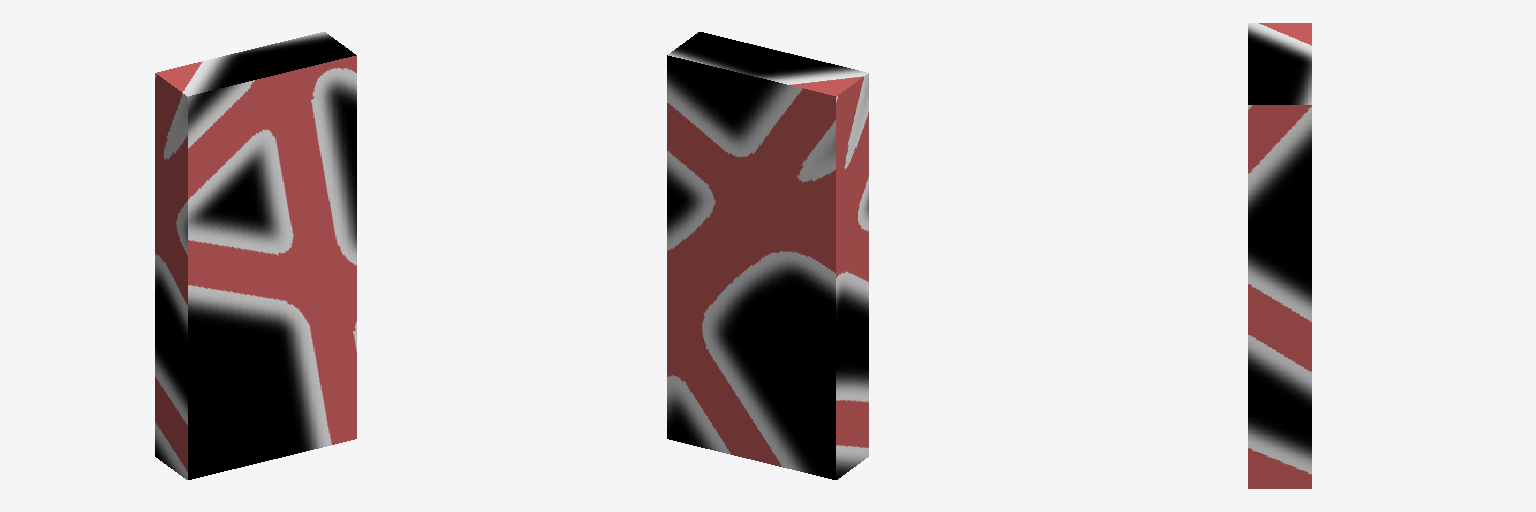
The picture shows the model from 3 angles: view 1: azimuth 30°, elevation 25°; view 2: azimuth 150°, elevation 25°; view 3: azimuth 270°, elevation 25°; orthographic projection.
Visible parts, largest first — view 1: 胴; view 2: 胴; view 3: 胴.
Boxes of the visible parts, x1,y1,x2,y2 form: 胴: [155, 32, 356, 479]; 胴: [667, 32, 868, 479]; 胴: [1248, 23, 1311, 488].
Bounding box in the file's own units: 9 × 19.5 × 2.98.
Materials: 1 (1 with a texture image).